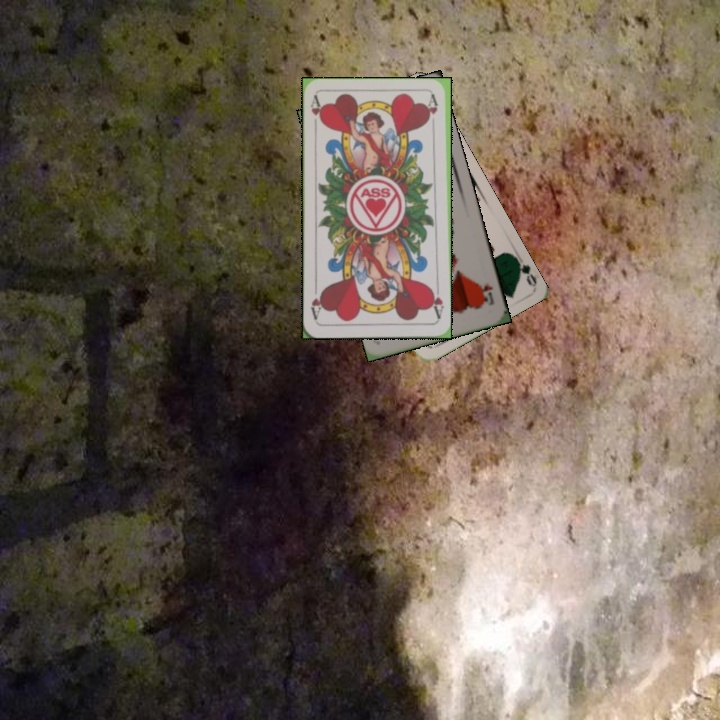GO: (509, 252, 539, 288)
HA: (427, 281, 446, 321), (306, 93, 325, 133)
HO: (475, 278, 496, 308)
